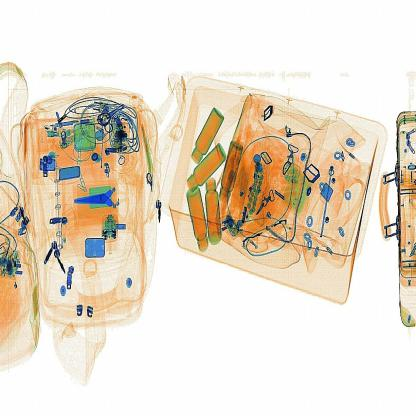gun: (76, 170, 141, 229)
